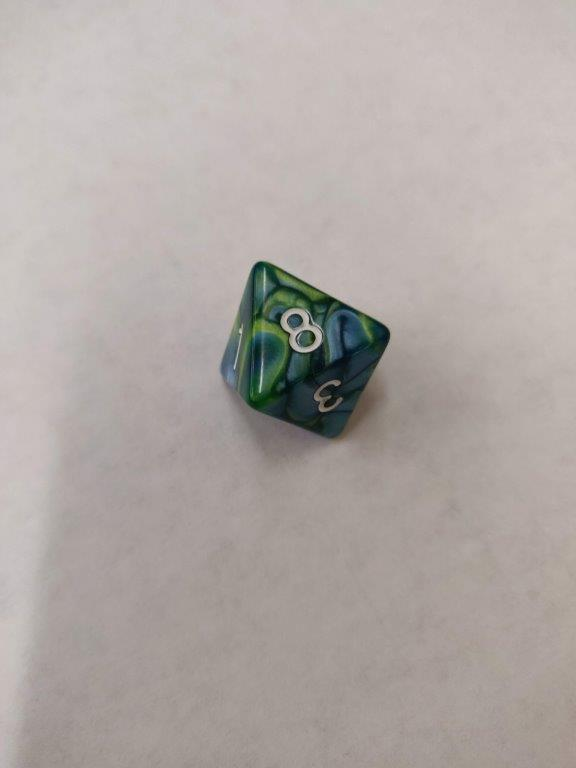d8-8: (217, 260, 391, 441)
